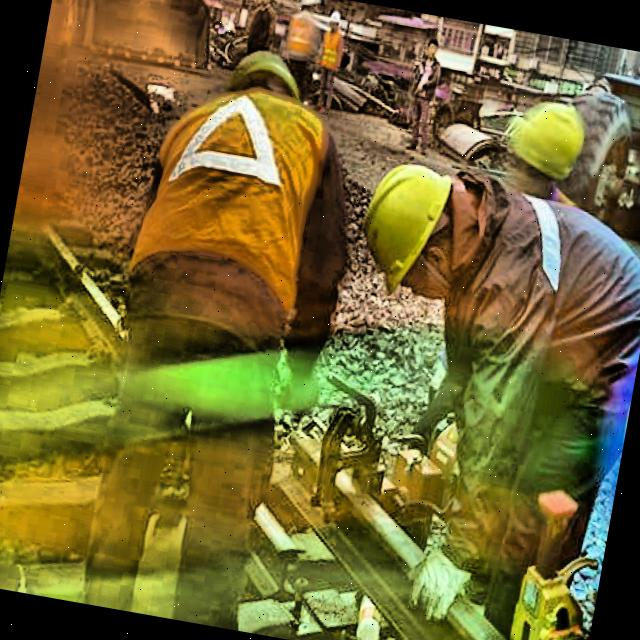helmet: (338, 143, 482, 310), (490, 90, 597, 198), (227, 43, 306, 118), (323, 3, 345, 40)
